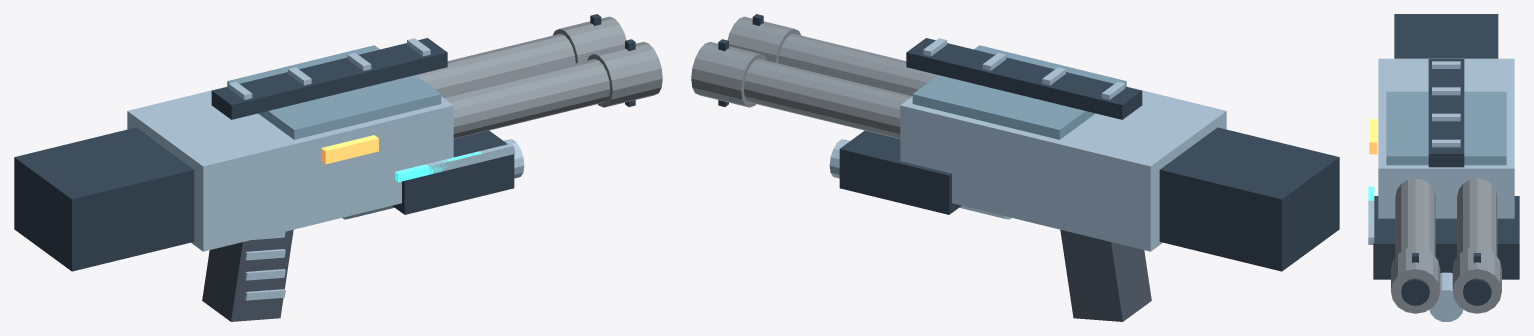
The model's file is shotgun.glb.
3 views of the same model, side by side, from view 1: azimuth 30°, elevation 25°; view 2: azimuth 150°, elevation 25°; view 3: azimuth 270°, elevation 25° (orthographic). The views are drawn at different scales.
Visible parts, largest first — view 1: Shotgun_Receiver, Shotgun_Stock, Shotgun_Barrel_Right, Top_Rail, Shotgun_Breech, Shotgun_Grip, Pump_Handle, Shotgun_Barrel_Left, Shotgun_Muzzle_0.095, Shotgun_Muzzle_-0.095, Ammo_Window, Pump_Rib_2 (+2 smaller); view 2: Shotgun_Receiver, Shotgun_Stock, Shotgun_Barrel_Left, Top_Rail, Shotgun_Breech, Shotgun_Grip, Pump_Handle, Shotgun_Barrel_Right, Shotgun_Muzzle_-0.095, Shotgun_Muzzle_0.095, Shell_Tube; view 3: Shotgun_Receiver, Shotgun_Breech, Shotgun_Stock, Pump_Handle, Top_Rail, Shotgun_Barrel_Left, Shotgun_Barrel_Right, Shotgun_Muzzle_-0.095, Shotgun_Muzzle_0.095, Shell_Tube, Shotgun_Muzzle_0.095_bore, Shotgun_Muzzle_-0.095_bore (+6 smaller).
Part boxes in pixels (x1,y1,x2,y2): Shotgun_Receiver: [127, 86, 453, 251]; Shotgun_Stock: [14, 127, 194, 271]; Shotgun_Barrel_Right: [442, 59, 609, 138]; Top_Rail: [211, 38, 447, 119]; Shotgun_Breech: [227, 45, 441, 139]; Shotgun_Grip: [202, 229, 293, 321]; Pump_Handle: [392, 130, 514, 214]; Shotgun_Barrel_Left: [415, 33, 575, 96]; Shotgun_Muzzle_0.095: [587, 41, 662, 107]; Shotgun_Muzzle_-0.095: [552, 16, 626, 63]; Ammo_Window: [321, 135, 378, 164]; Pump_Rib_2: [426, 143, 513, 174]; Shotgun_Receiver: [900, 86, 1226, 251]; Shotgun_Stock: [1159, 127, 1339, 271]; Shotgun_Barrel_Left: [744, 59, 911, 138]; Top_Rail: [906, 38, 1142, 119]; Shotgun_Breech: [912, 45, 1126, 139]; Shotgun_Grip: [1060, 229, 1151, 321]; Pump_Handle: [839, 130, 961, 214]; Shotgun_Barrel_Right: [778, 33, 938, 96]; Shotgun_Muzzle_-0.095: [691, 41, 766, 107]; Shotgun_Muzzle_0.095: [727, 16, 801, 63]; Shell_Tube: [829, 139, 1011, 219]; Shotgun_Receiver: [1378, 58, 1514, 218]; Shotgun_Breech: [1386, 91, 1506, 165]; Shotgun_Stock: [1394, 14, 1498, 58]; Pump_Handle: [1373, 196, 1519, 279]; Top_Rail: [1428, 59, 1464, 167]; Shotgun_Barrel_Left: [1457, 178, 1497, 256]; Shotgun_Barrel_Right: [1395, 178, 1435, 256]; Shotgun_Muzzle_-0.095: [1452, 247, 1501, 313]; Shotgun_Muzzle_0.095: [1391, 247, 1440, 313]; Shell_Tube: [1429, 272, 1463, 321]; Shotgun_Muzzle_0.095_bore: [1401, 278, 1429, 305]; Shotgun_Muzzle_-0.095_bore: [1463, 278, 1491, 305].
Bounding box in the file's own units: 1.89 × 0.6879 × 0.465.
